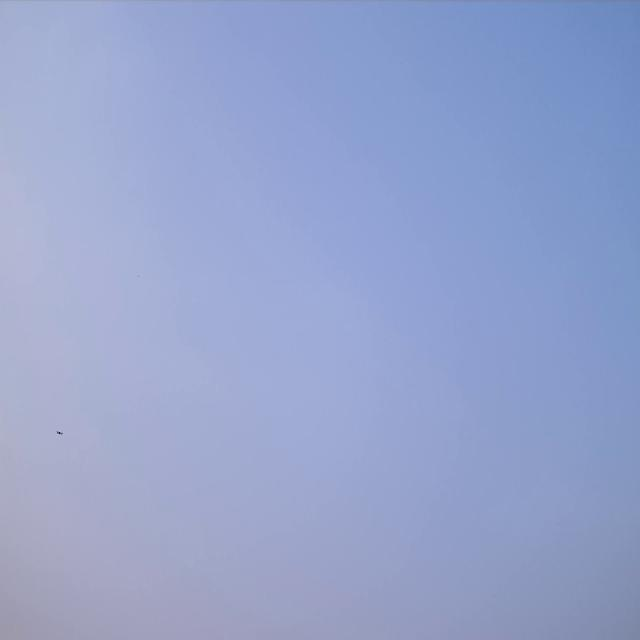UAV: (55, 429, 64, 436)
